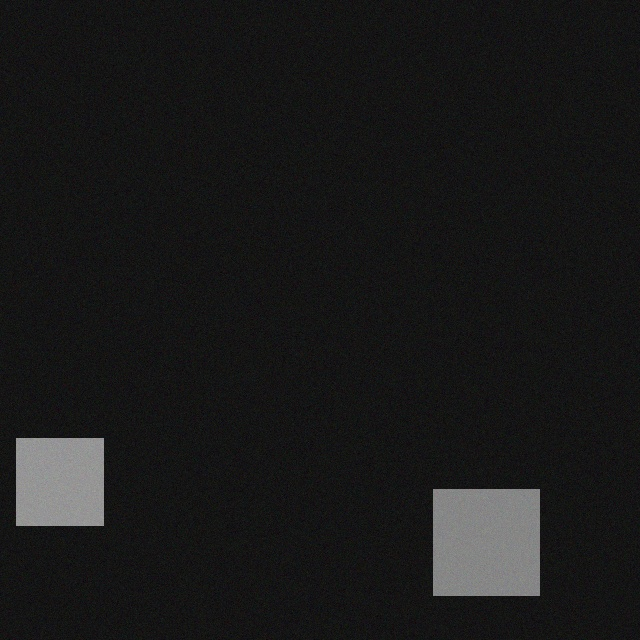square: (440, 484, 546, 590), (23, 433, 110, 520)
